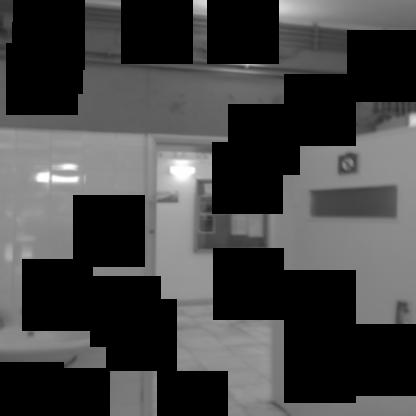Porte: (142, 130, 415, 415)
